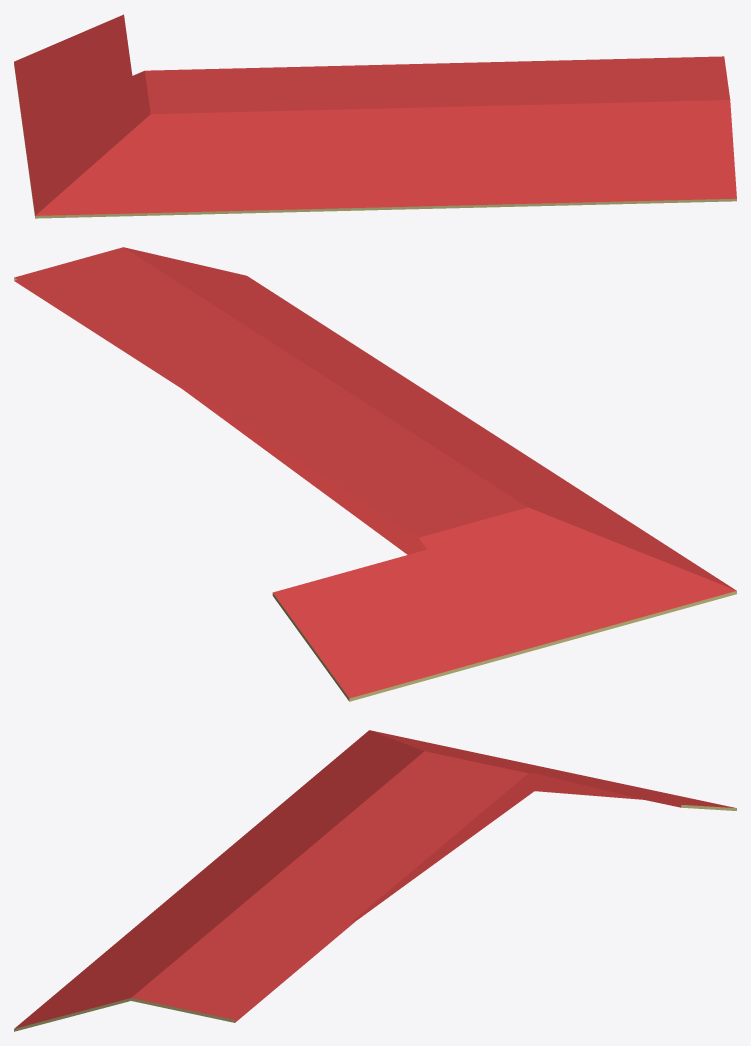
3 views of the same model, one above another, from view 1: azimuth 30°, elevation 25°; view 2: azimuth 150°, elevation 25°; view 3: azimuth 270°, elevation 25° (orthographic). The views are drawn at different scales.
Size of the model in its own units: 24.98 by 22.07 by 1.98.
